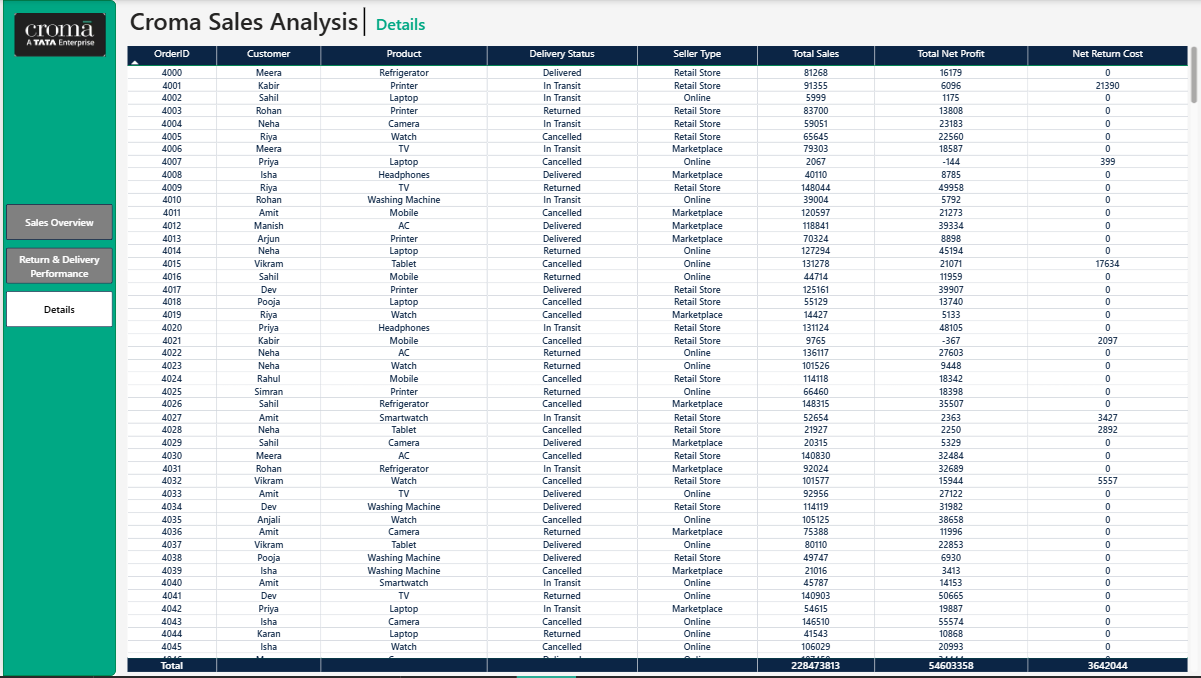

The dashboard page shown, as its layout file describes it:
{"tool":"powerbi","page":{"name":"Details","canvas":[1600,900],"ordinal":2},"visuals":[{"type":"shape","box":[0,0,150.6,900],"z":0},{"type":"textbox","box":[164.4,0,408.9,56.7],"z":1000},{"type":"shape","box":[467.8,10,27.8,37.8],"z":2000},{"type":"image","box":[9,7.9,131.5,76.4],"z":3000},{"type":"tableEx","fields":{"Values":["Sheet1.OrderID","Sheet1.Customer","Sheet1.Product","Sheet1.Delivery Status","Sheet1.Seller Type","Sheet1.Total Sales","Sheet1.Total Net Profit","Sheet1.Net Return Cost"]},"box":[158.9,55.6,1435.6,843.3],"z":4000},{"type":"pageNavigator","box":[3.3,271.1,142.2,165.6],"z":5000}]}

Visuals, with their boxes in screenshot pixels (x1, y1, x2, y2):
shape: left=0, top=3, right=111, bottom=669
textbox: left=122, top=3, right=424, bottom=45
shape: left=346, top=11, right=367, bottom=39
image: left=7, top=9, right=104, bottom=66
tableEx - Sheet1.OrderID x Sheet1.Customer: left=118, top=44, right=1180, bottom=669
pageNavigator: left=2, top=204, right=108, bottom=326
